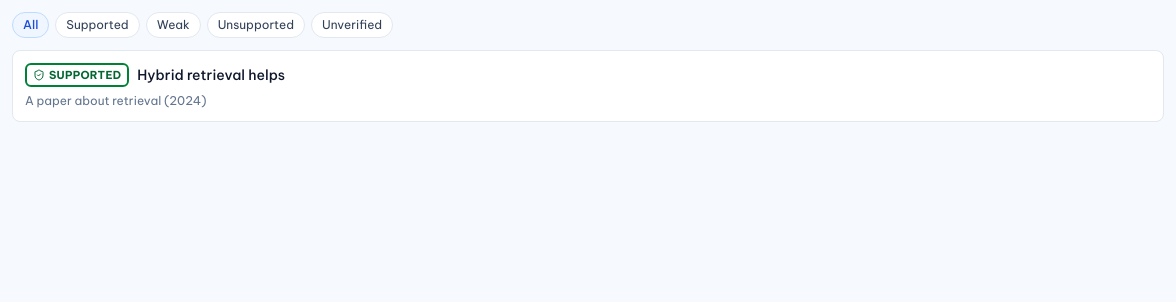
Scenario: the why-this-label page › traces every label back to the layer that decided it
This screenshot has width=1176, height=302.
Click the button "Hybrid retrieval helps": {"x": 77, "y": 75} [13,51,1163,121]
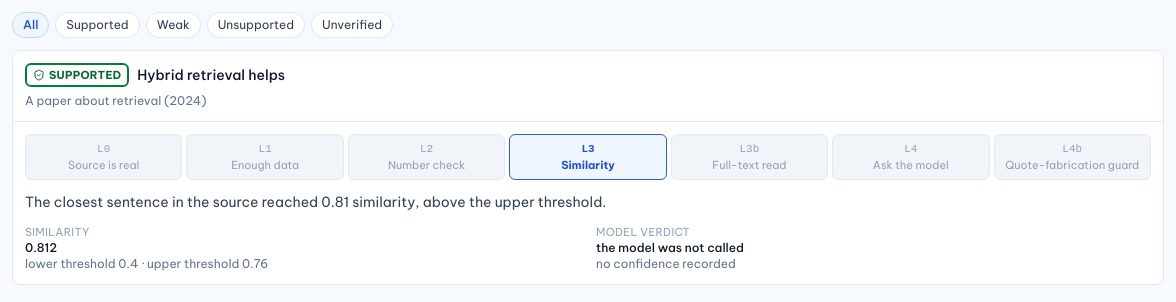
Check: the list item "L3 Similarity" is shown, box [509,134,667,180]
Check: the text "above the upper threshold" is shown, box [25,193,606,211]
